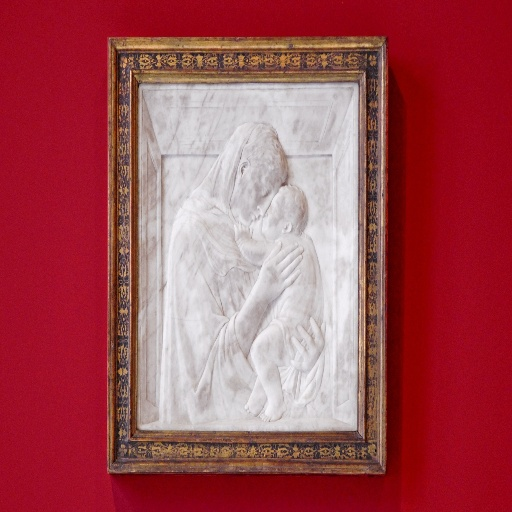hand: (259, 239, 303, 300), (288, 315, 324, 375), (232, 218, 254, 242)
